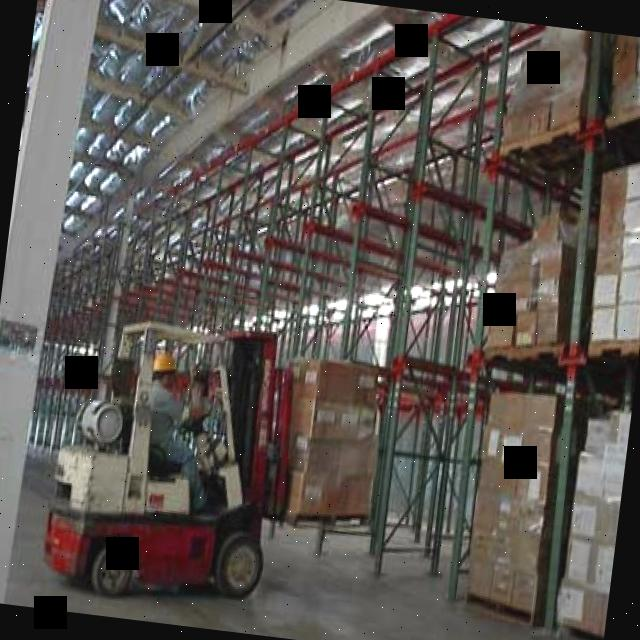box: (294, 386, 380, 452), (290, 468, 375, 523), (298, 439, 379, 485), (303, 358, 378, 405), (486, 389, 557, 434), (500, 96, 550, 142), (599, 158, 640, 211), (533, 282, 561, 344), (475, 491, 515, 532), (534, 243, 569, 286), (564, 539, 596, 585), (533, 209, 565, 251), (478, 463, 518, 495), (575, 452, 603, 494), (513, 468, 547, 502), (485, 309, 516, 346), (570, 498, 600, 536), (509, 505, 543, 538), (506, 536, 540, 568), (519, 432, 550, 467), (584, 417, 612, 455), (497, 425, 524, 464), (471, 534, 507, 563), (513, 306, 538, 346), (508, 574, 535, 611), (466, 559, 493, 595), (480, 424, 502, 462), (489, 570, 513, 601)
